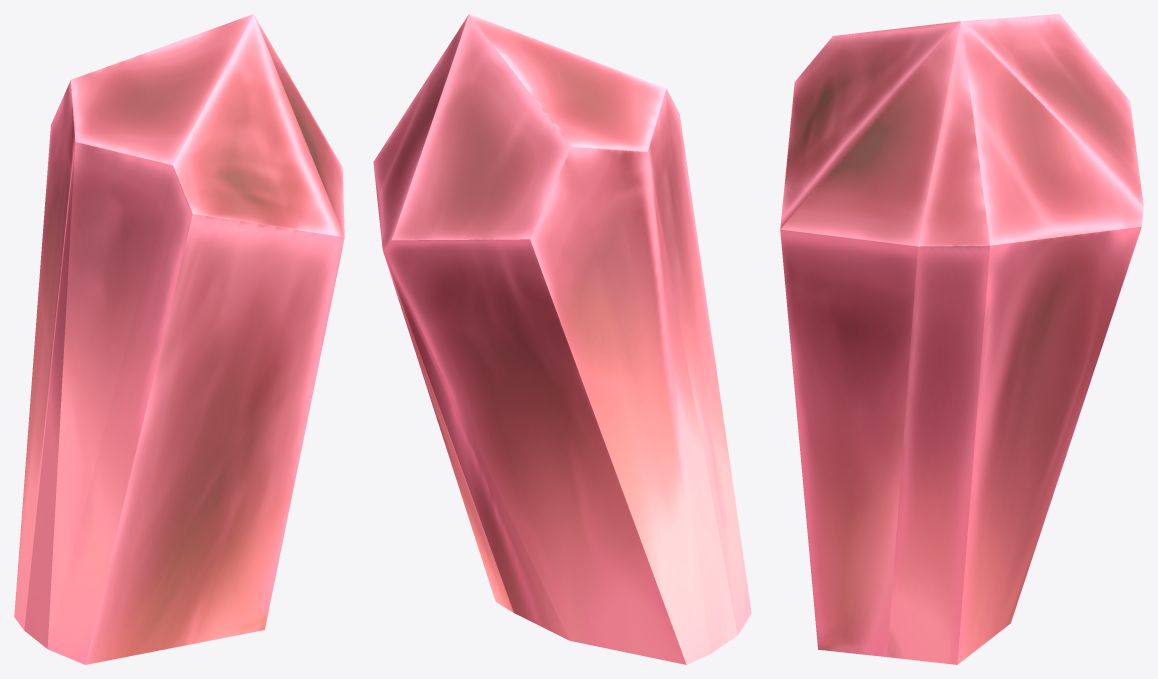
Rendered from crystal_red_single1.fbx.
3 views of the same model, side by side, from view 1: azimuth 30°, elevation 25°; view 2: azimuth 150°, elevation 25°; view 3: azimuth 270°, elevation 25° (orthographic). The views are drawn at different scales.
Visible parts, largest first — view 1: crystal_red_single_001; view 2: crystal_red_single_001; view 3: crystal_red_single_001.
Part boxes in pixels (x1,y1,x2,y2): crystal_red_single_001: [14, 14, 344, 664]; crystal_red_single_001: [373, 14, 751, 664]; crystal_red_single_001: [780, 14, 1143, 664].
Size of the model in its own units: 0.9413 by 1.62 by 0.81.
